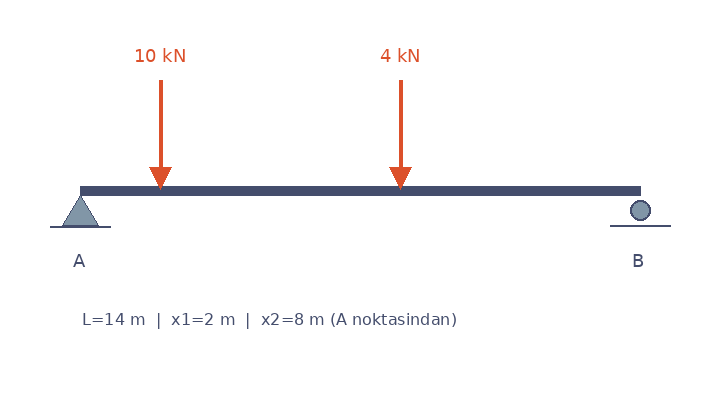pin_support: (61, 190, 99, 226)
point_load: (146, 76, 174, 190), (386, 76, 414, 190)
roller_support: (625, 196, 655, 227)
